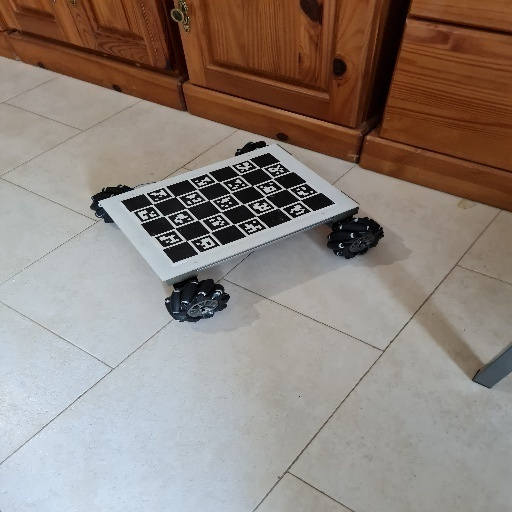Omniwheel: (87, 144, 386, 327)
